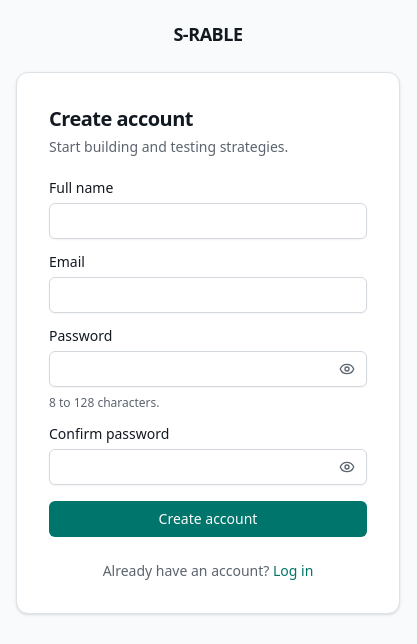
RegisterPage › shows "email already exists" under the email field on 409
Type " Asha Rao " into the field labelled "Full name" at (208, 221), box [49,203,367,239]
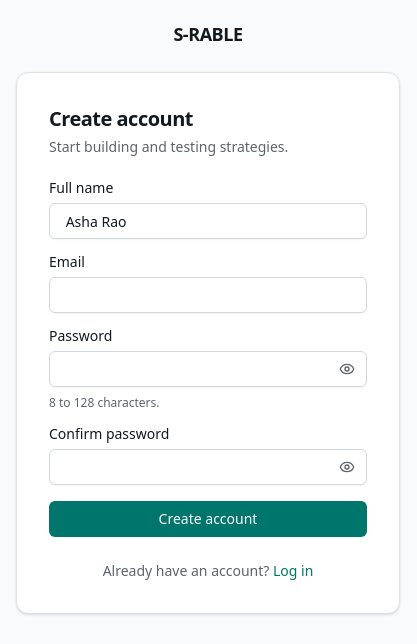
Type " asha@example.com " into the field labelled "Email" at (208, 295), box [49,277,367,313]
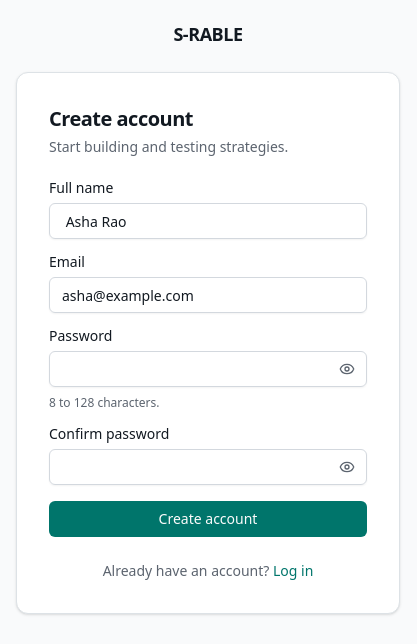
Type "password123" into the password field labelled "Password" at (208, 369), box [49,351,367,387]
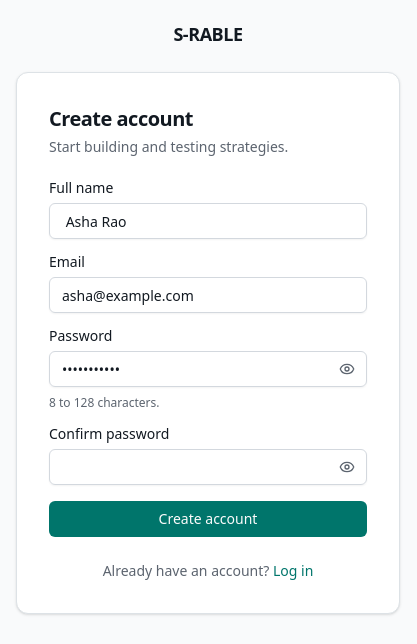
Type "password123" into the password field labelled "Confirm password" at (208, 467), box [49,449,367,485]
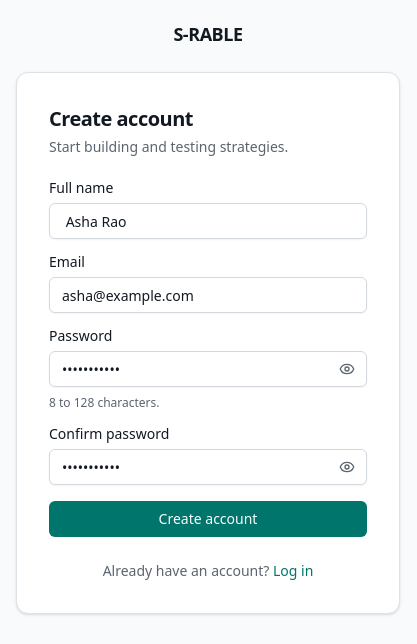
Click the button "Create account" at (208, 519), box [49,501,367,537]
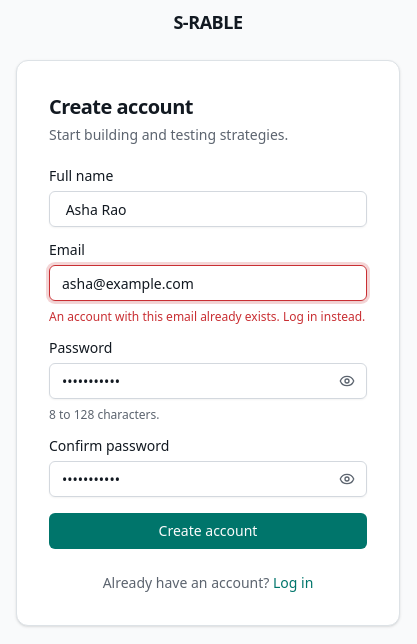
Now the text "An account with this email already exists. Log in instead." is shown, box [49,309,367,325]
